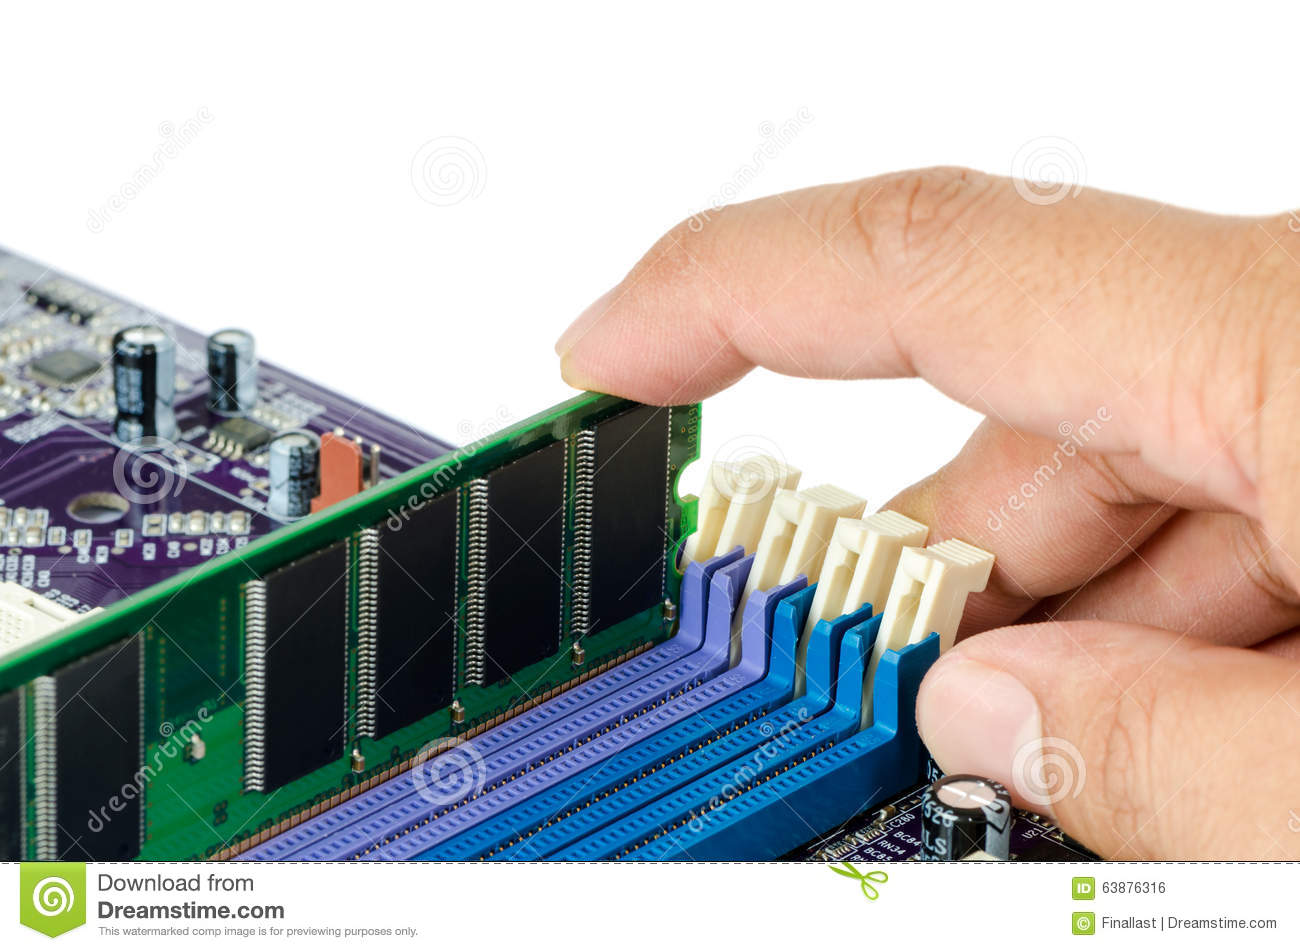ram: (1, 387, 705, 863)
